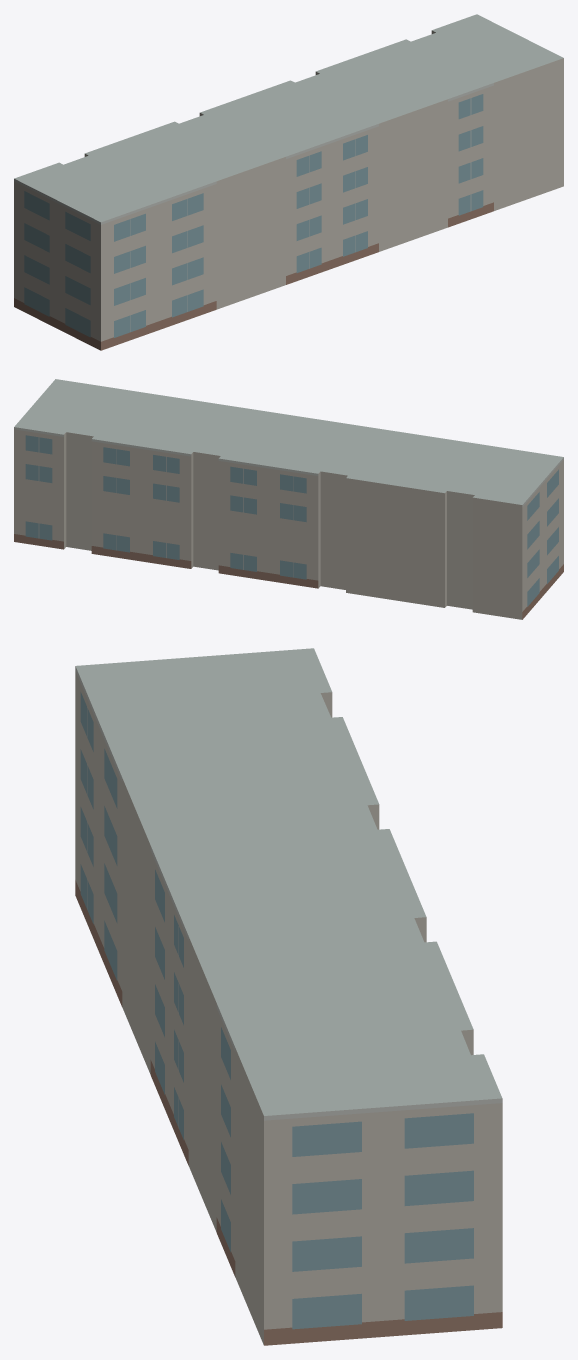
File: survey-upis-33037543.glb
The picture shows the model from 3 angles, top to bottom: view 1: azimuth 30°, elevation 25°; view 2: azimuth 150°, elevation 25°; view 3: azimuth 270°, elevation 25°; orthographic projection. The views are drawn at different scales.
Visible parts, largest first — view 1: survey-upis-33037543.tmp; view 2: survey-upis-33037543.tmp; view 3: survey-upis-33037543.tmp.
Part boxes in pixels (x1=…): survey-upis-33037543.tmp: x1=14, y1=14, x2=563, y2=350; survey-upis-33037543.tmp: x1=14, y1=379, x2=563, y2=619; survey-upis-33037543.tmp: x1=75, y1=648, x2=502, y2=1345.
Size of the model in its own units: 53.31 by 12.2 by 20.57.
